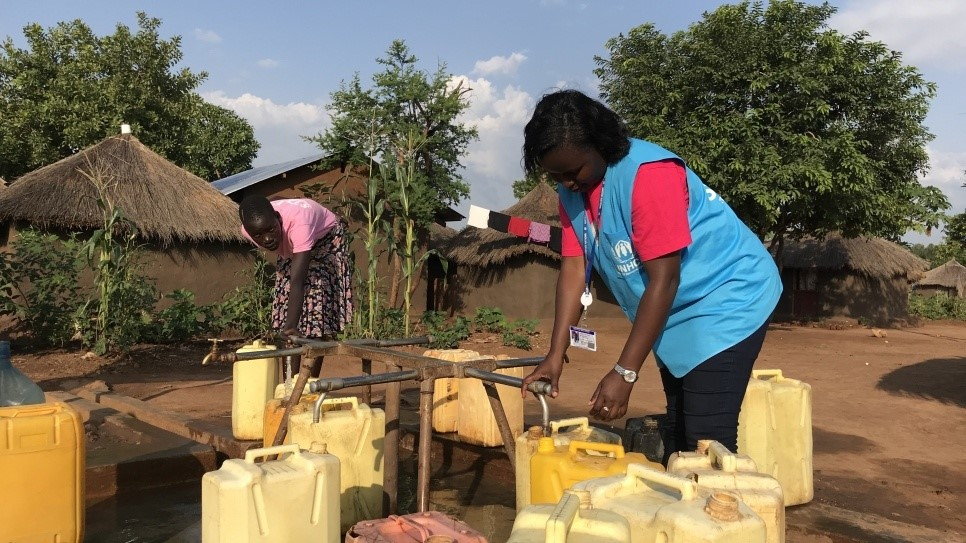face_no_mask: (526, 95, 621, 191), (236, 194, 282, 253)
